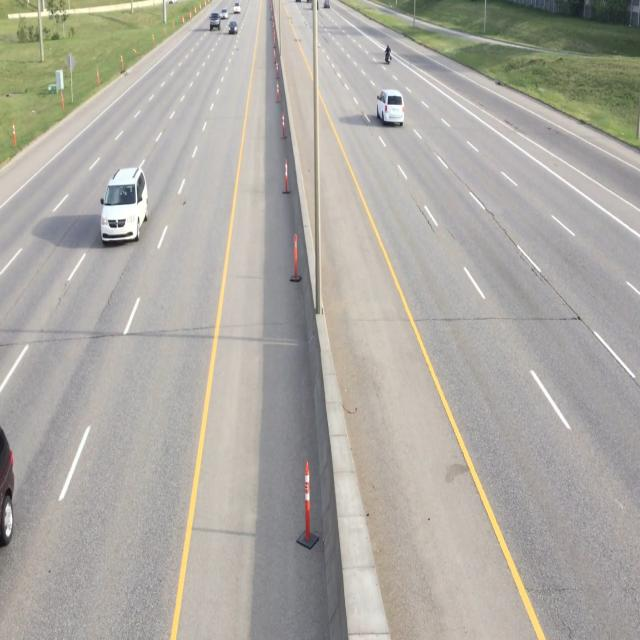Car: (99, 164, 149, 252), (376, 86, 406, 130)
